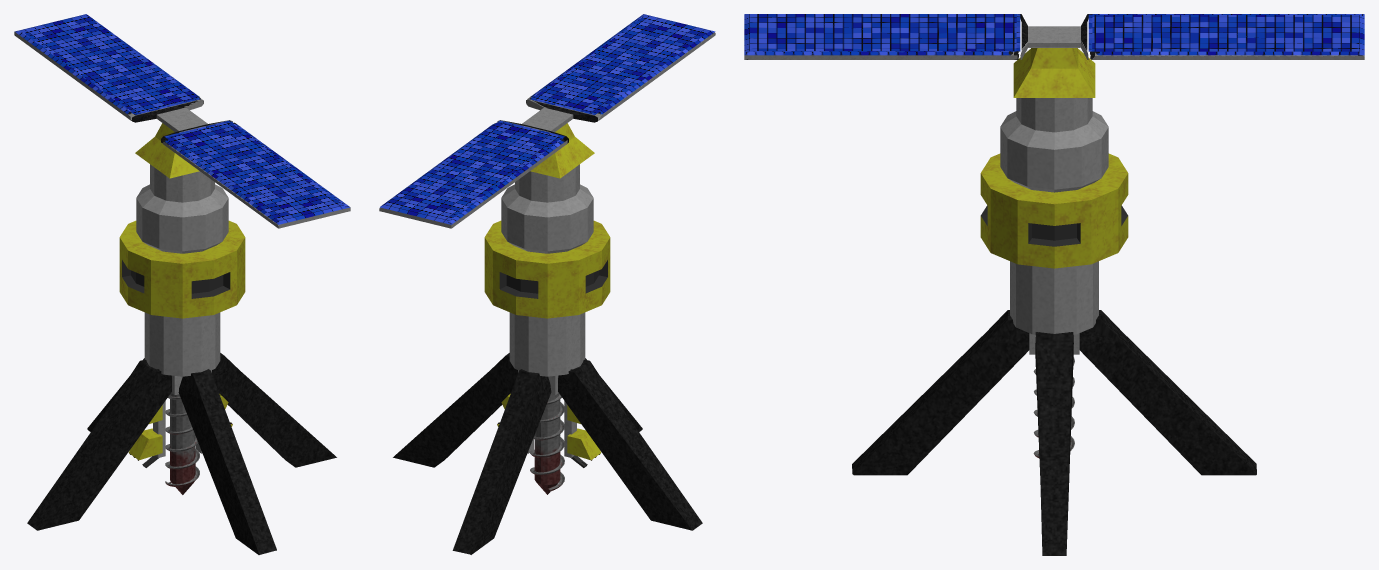
The model's file is Furadeira-1.fbx.
The picture shows the model from 3 angles, left to right: view 1: azimuth 30°, elevation 25°; view 2: azimuth 150°, elevation 25°; view 3: azimuth 270°, elevation 25°; orthographic projection. The views are drawn at different scales.
Parts seen in each view (by area): view 1: LOD_0; view 2: LOD_0; view 3: LOD_0.
Boxes of the visible parts, box(x1,y1,x2,y2) form: LOD_0: box(14, 14, 350, 554); LOD_0: box(379, 14, 715, 554); LOD_0: box(744, 14, 1364, 555).
Size of what is drawn, in the model's own units: 3366 by 4047 by 5133.
